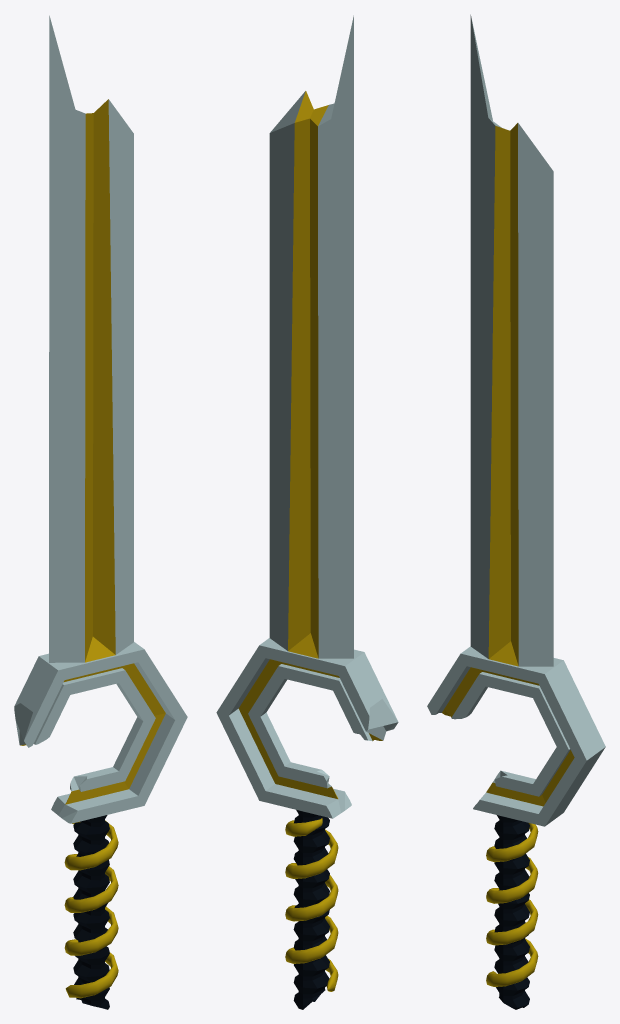
The model's file is Sword_unique.fbx.
The picture shows the model from 3 angles, left to right: view 1: azimuth 30°, elevation 25°; view 2: azimuth 150°, elevation 25°; view 3: azimuth 330°, elevation 25°; orthographic projection. The views are drawn at different scales.
Visible parts, largest first — view 1: Hope; view 2: Hope; view 3: Hope.
Part boxes in pixels (x1,y1,x2,y2): Hope: (14, 15, 187, 1009); Hope: (216, 15, 398, 1009); Hope: (427, 14, 605, 1009).
Bounding box in the file's own units: 9.64 × 2.65 × 56.7.
